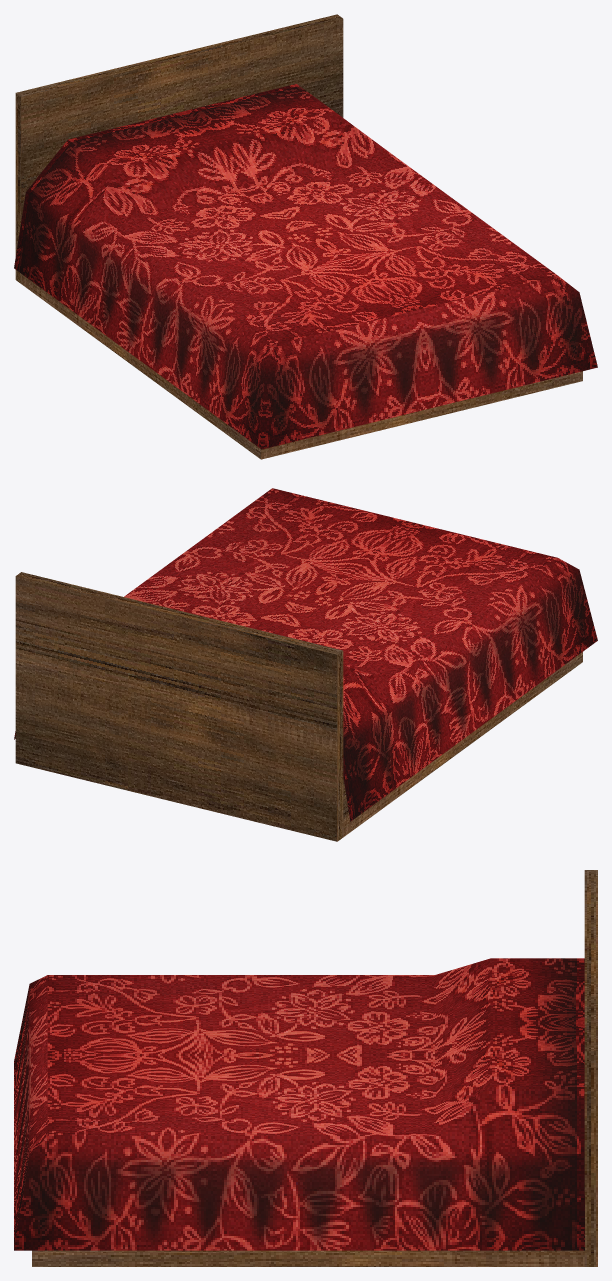
Rendered from psx_bed.glb.
3 views of the same model, one above another, from view 1: azimuth 30°, elevation 25°; view 2: azimuth 150°, elevation 25°; view 3: azimuth 270°, elevation 25° (orthographic). The views are drawn at different scales.
Parts seen in each view (by area): view 1: Bed; view 2: Bed; view 3: Bed.
Part boxes in pixels (x1,y1,x2,y2): Bed: [14, 14, 597, 459]; Bed: [14, 488, 597, 841]; Bed: [14, 870, 597, 1266].
Bounding box in the file's own units: 1.86 × 0.99 × 2.43.
Materials: 1 (1 with a texture image).
